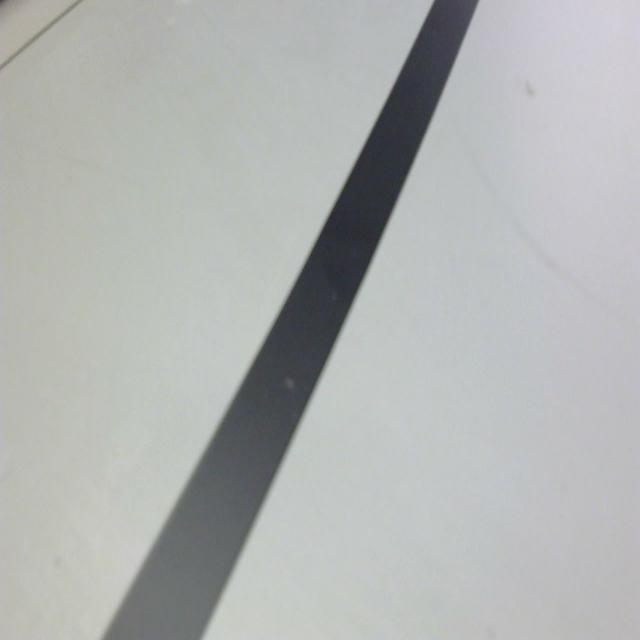tape: (61, 0, 519, 640)
